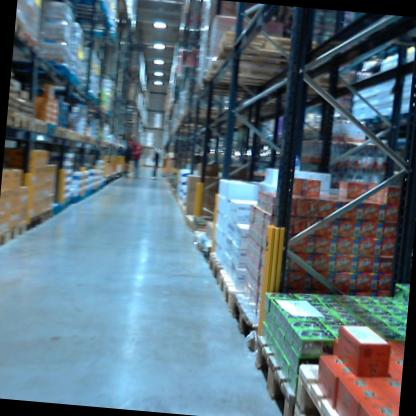pallet: (246, 331, 299, 416), (286, 357, 361, 416), (207, 48, 315, 87), (215, 28, 313, 68), (284, 60, 364, 98), (230, 292, 268, 352), (16, 54, 74, 80), (58, 0, 120, 21), (216, 268, 243, 312), (14, 15, 36, 49), (7, 219, 26, 247), (21, 212, 44, 234), (7, 109, 27, 132), (206, 254, 222, 282), (32, 115, 51, 136), (288, 405, 322, 416), (38, 206, 55, 224), (0, 227, 10, 254), (47, 120, 60, 139), (23, 113, 34, 134), (49, 202, 62, 217)
pallet_truck: (160, 142, 179, 180)
